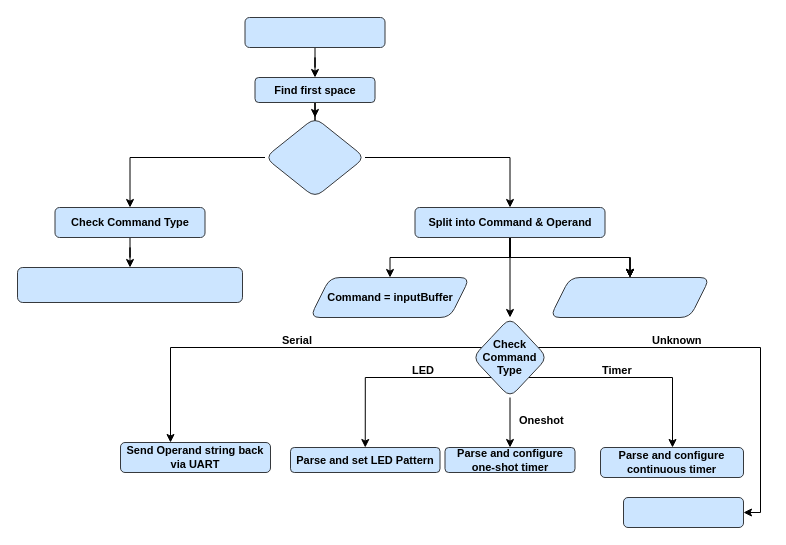
The diagram is 786 pixels wide and 545 high, and some of its shapes have lost their labels. Each missing label, with the centre of its shape:
Call parseCommand: pixel 314 32
Operand = spacePtr + 1: pixel 629 297
Send error: Invalid Command: pixel 683 512
Send Error: No Operand for serial command: pixel 129 284
Space Found?: pixel 314 157
